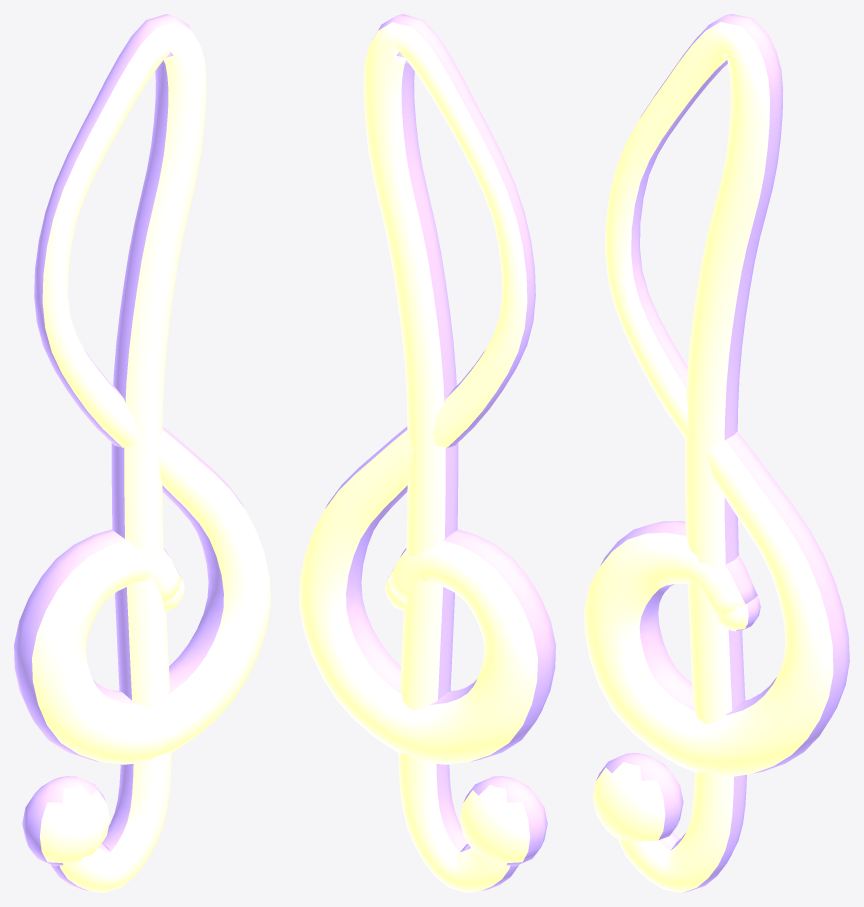
File: nota-clave-de-sol.glb
The picture shows the model from 3 angles, left to right: view 1: azimuth 30°, elevation 25°; view 2: azimuth 150°, elevation 25°; view 3: azimuth 330°, elevation 25°; orthographic projection. The views are drawn at different scales.
Visible parts, largest first — view 1: nota-clave-de-sol; view 2: nota-clave-de-sol; view 3: nota-clave-de-sol.
Part boxes in pixels (x1,y1,x2,y2): nota-clave-de-sol: (14,14,270,892); nota-clave-de-sol: (299,14,555,892); nota-clave-de-sol: (584,14,849,892).
Bounding box in the file's own units: 0.0701 × 0.2317 × 0.0183.
